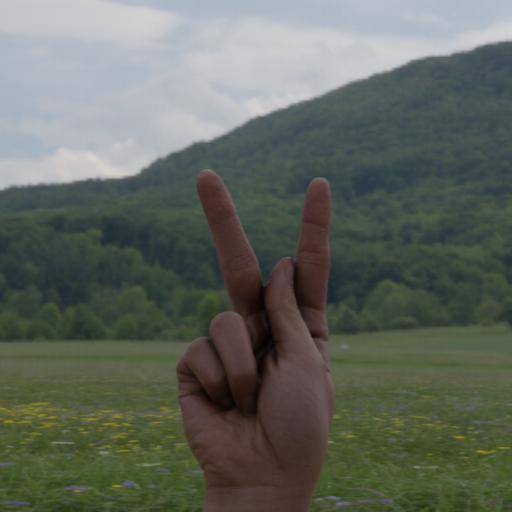K: (144, 164, 356, 487)
